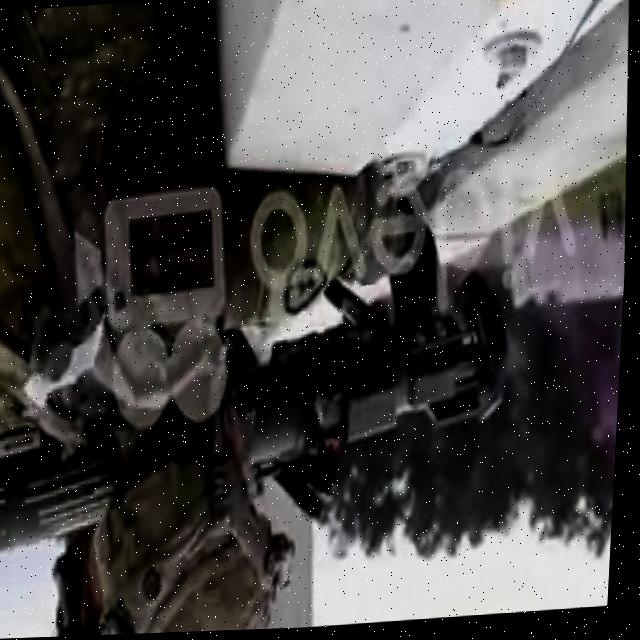rocket: (0, 274, 521, 568)
